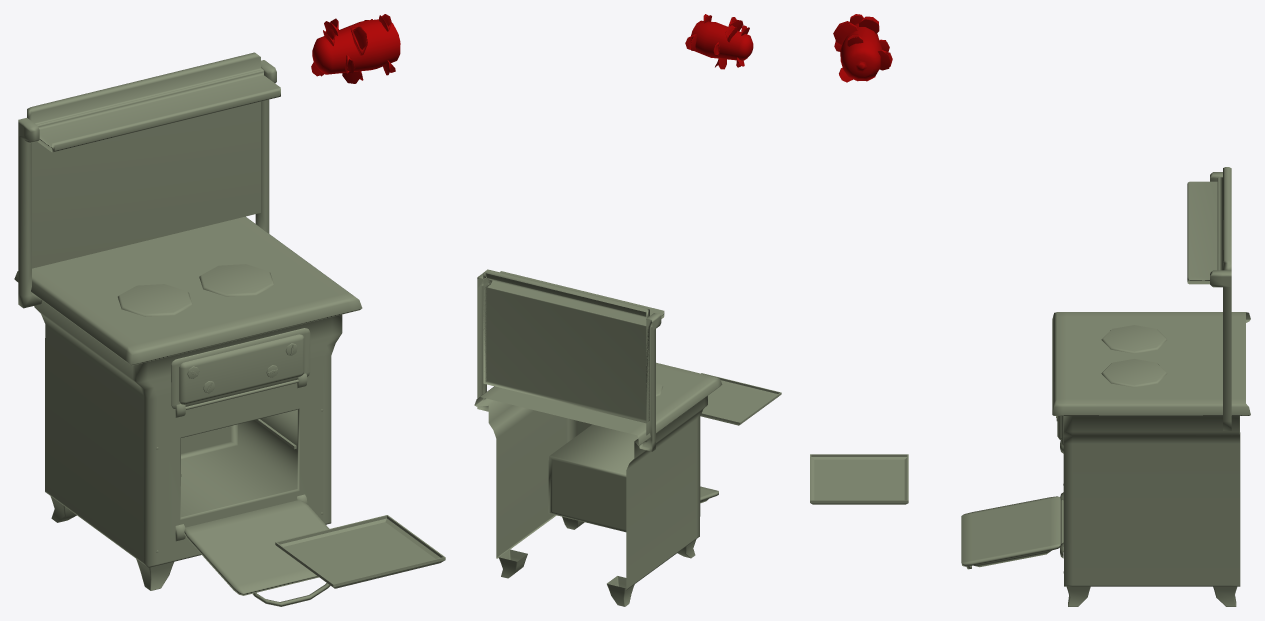
File: OvenModelAnim_Idle.fbx
3 views of the same model, side by side, from view 1: azimuth 30°, elevation 25°; view 2: azimuth 150°, elevation 25°; view 3: azimuth 270°, elevation 25° (orthographic). The views are drawn at different scales.
Visible parts, largest first — view 1: Geo_doortophinge1, Geo_stovedoorbottom, Geo_tray, polySurface12; view 2: Geo_doortophinge1, Geo_tray, polySurface12; view 3: Geo_doortophinge1, Geo_stovedoorbottom, Geo_tray, polySurface12.
Boxes of the visible parts, <box> form: Geo_doortophinge1: <box>14,52,362,590</box>; Geo_stovedoorbottom: <box>184,500,330,606</box>; Geo_tray: <box>275,515,445,588</box>; polySurface12: <box>312,19,400,74</box>; Geo_doortophinge1: <box>474,269,722,606</box>; Geo_tray: <box>700,373,781,425</box>; polySurface12: <box>691,20,753,60</box>; Geo_doortophinge1: <box>1052,167,1250,606</box>; Geo_stovedoorbottom: <box>961,496,1060,569</box>; Geo_tray: <box>810,454,908,504</box>; polySurface12: <box>840,23,882,81</box>.
Bounding box in the file's own units: 95.2 × 237 × 174.
